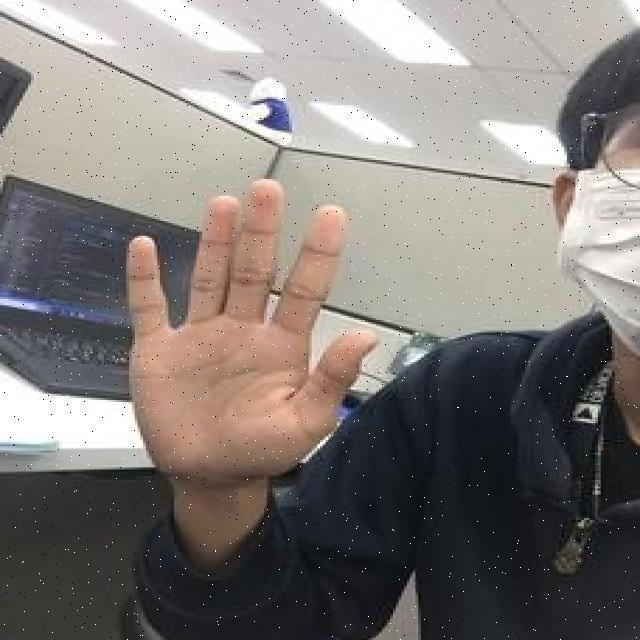hand: (124, 178, 388, 486)
